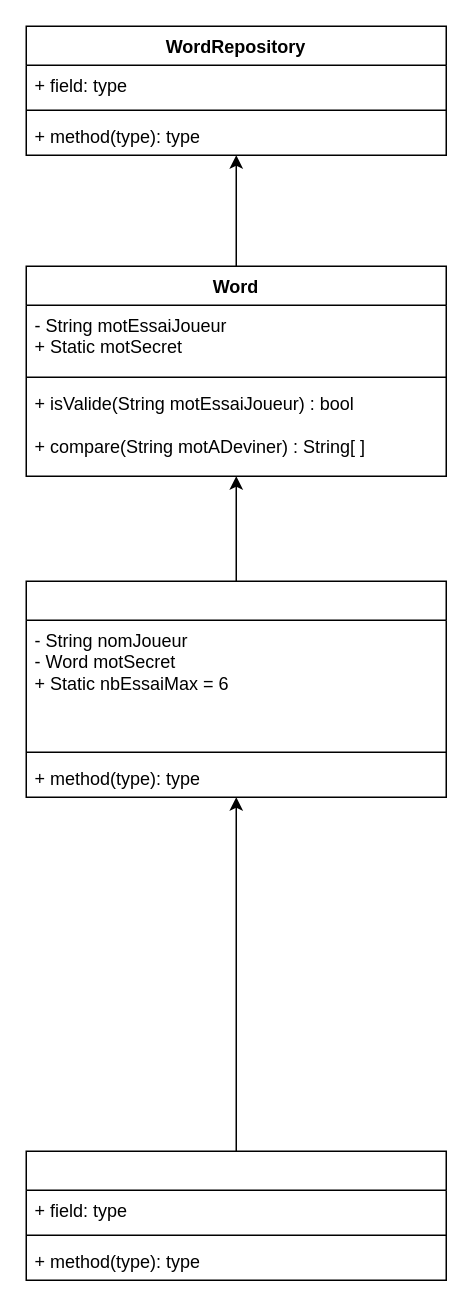
This 473x1311 diagram has some shape labels left out. Here are the shapes that lost their labels. From the top down, the box of each, then its label:
(25, 580, 446, 797): Game
(25, 1150, 446, 1280): Main
